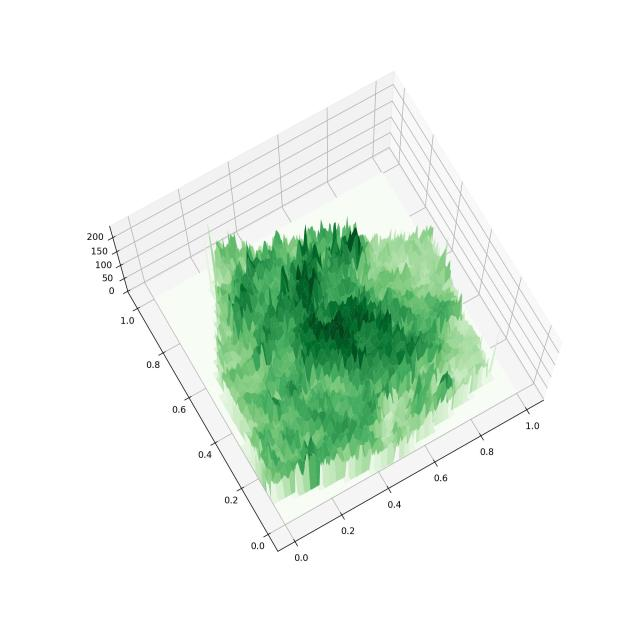fir: (68, 59, 580, 589)
